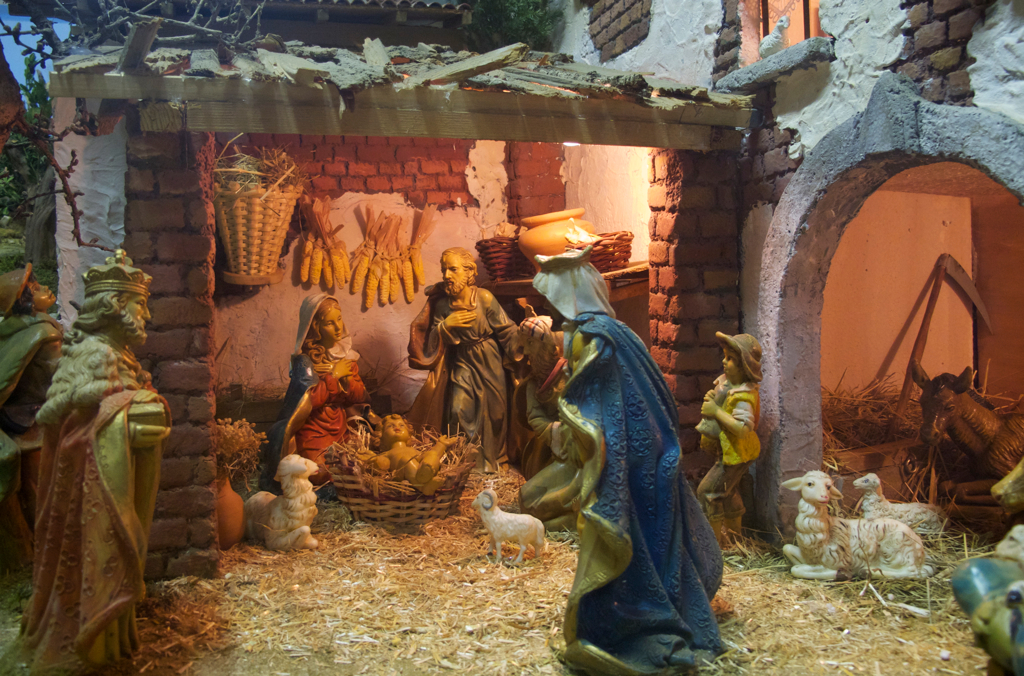Person: (531, 243, 723, 676), (407, 245, 522, 476), (269, 291, 367, 487), (694, 330, 747, 549)
